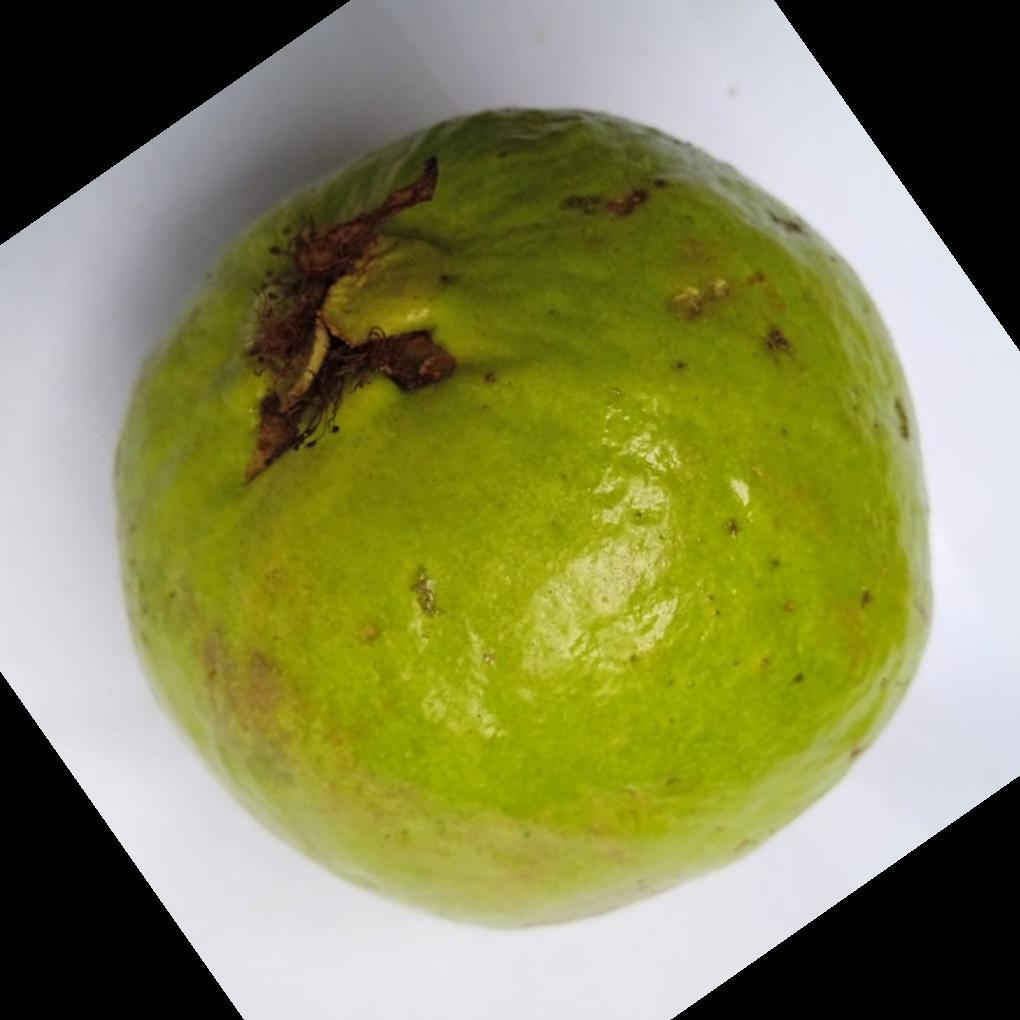FreshGuava: (109, 108, 935, 936)
